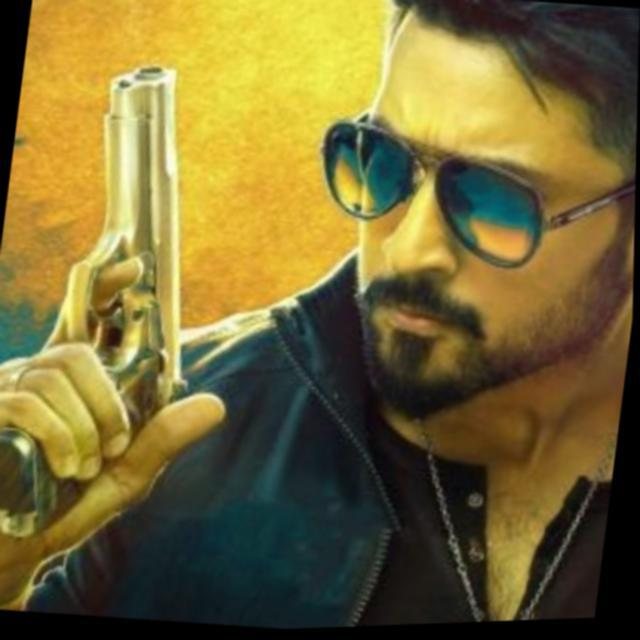weapon: (0, 42, 239, 563)
